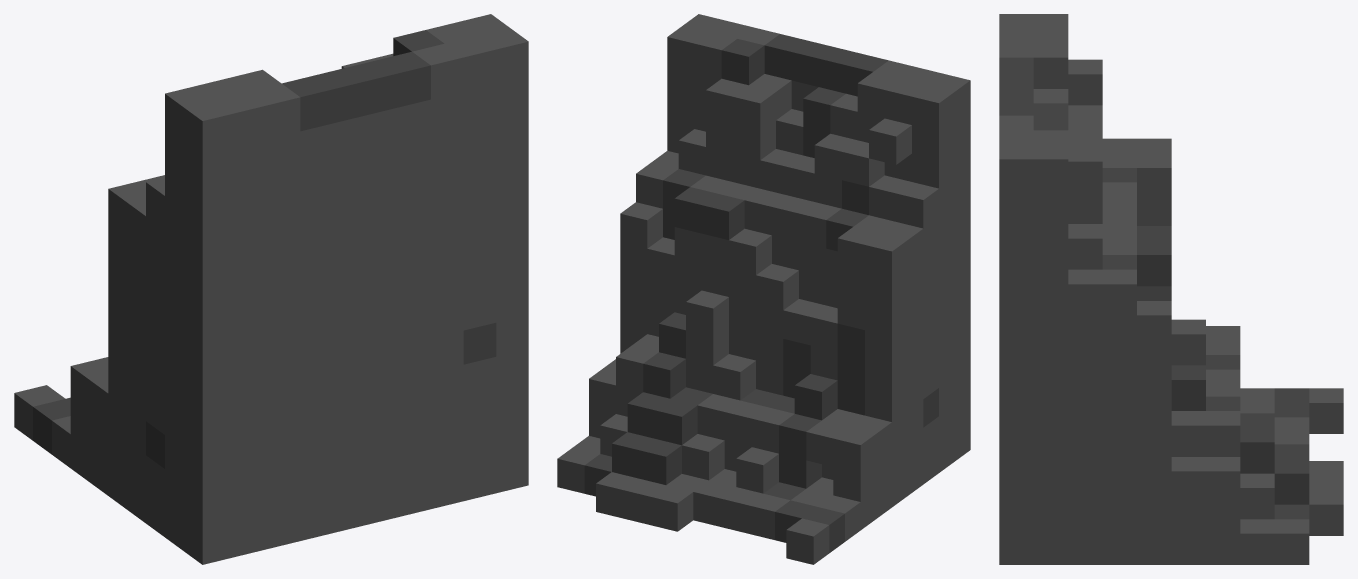
Rendered from Stein_Rand-1.0.obj.
3 views of the same model, side by side, from view 1: azimuth 30°, elevation 25°; view 2: azimuth 150°, elevation 25°; view 3: azimuth 270°, elevation 25° (orthographic). The views are drawn at different scales.
Size of the model in its own units: 1 by 1.3 by 1.
Materials: 1 (1 with a texture image).
